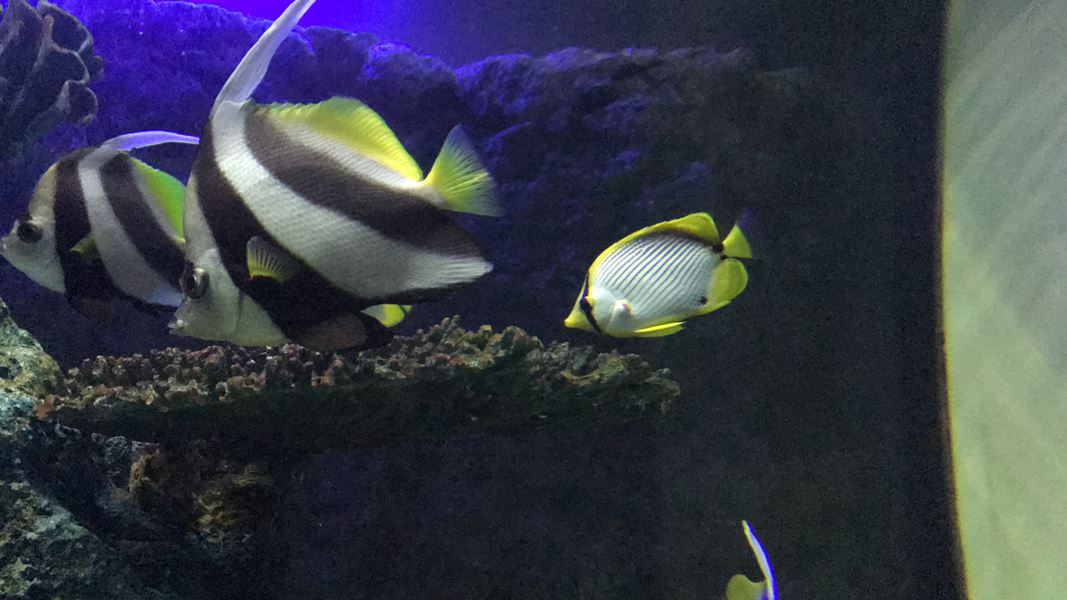Black-backed butterflyfish: (552, 201, 778, 349)
